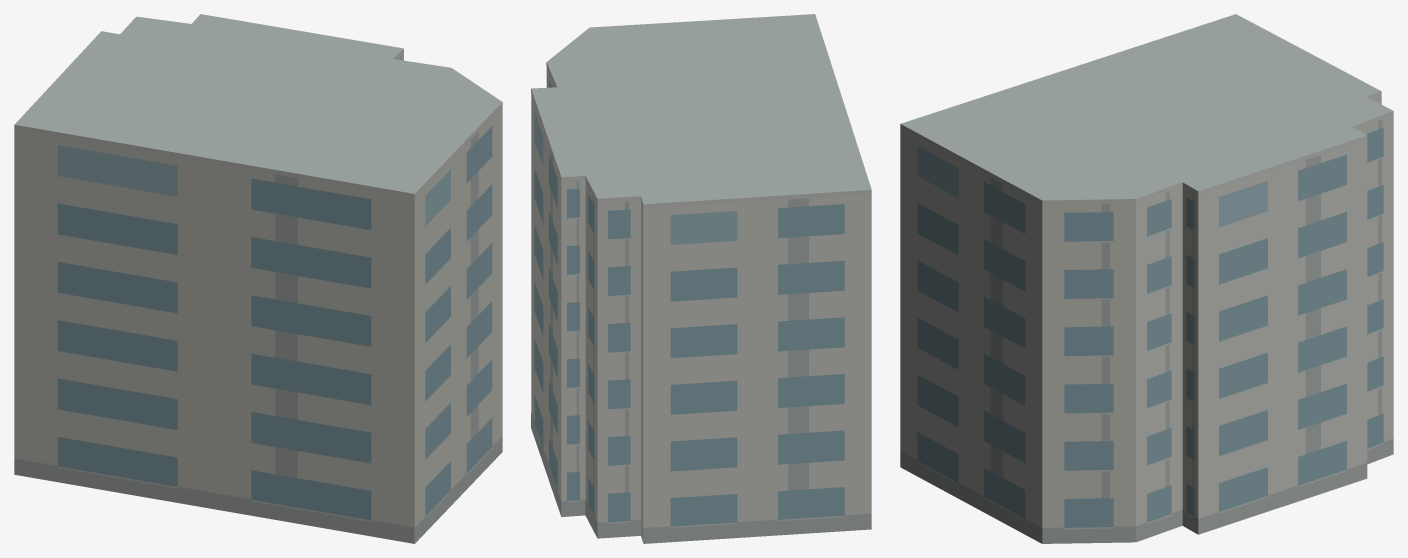
The model's file is survey-upis-32729152.glb.
3 renders of one model, left to right at view 1: azimuth 30°, elevation 25°; view 2: azimuth 150°, elevation 25°; view 3: azimuth 270°, elevation 25°, orthographic. The views are drawn at different scales.
Visible parts, largest first — view 1: survey-upis-32729152.tmp; view 2: survey-upis-32729152.tmp; view 3: survey-upis-32729152.tmp.
Part boxes in pixels (bbox=[...]): survey-upis-32729152.tmp: bbox=[14, 14, 502, 543]; survey-upis-32729152.tmp: bbox=[531, 14, 871, 543]; survey-upis-32729152.tmp: bbox=[900, 14, 1393, 543].
Size of the model in its own units: 22.14 by 19 by 24.74.
